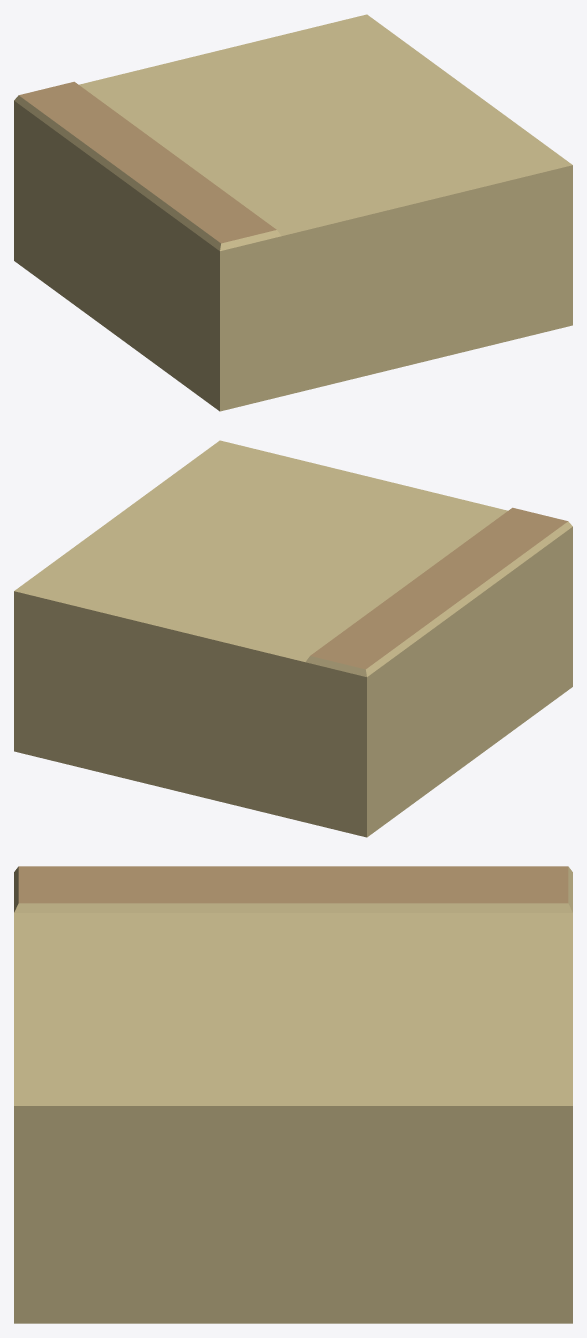
The model's file is Piso-Rio-3.FBX.
The picture shows the model from 3 angles, top to bottom: view 1: azimuth 30°, elevation 25°; view 2: azimuth 150°, elevation 25°; view 3: azimuth 270°, elevation 25°; orthographic projection. The views are drawn at different scales.
Visible parts, largest first — view 1: Piso-Rio-3; view 2: Piso-Rio-3; view 3: Piso-Rio-3.
Part boxes in pixels (left/top/right/bottom): Piso-Rio-3: left=14, top=14, right=572, bottom=411; Piso-Rio-3: left=14, top=440, right=572, bottom=837; Piso-Rio-3: left=14, top=866, right=572, bottom=1323.
Bounding box in the file's own units: 200 × 89.92 × 202.
1 material, 1 textured.
